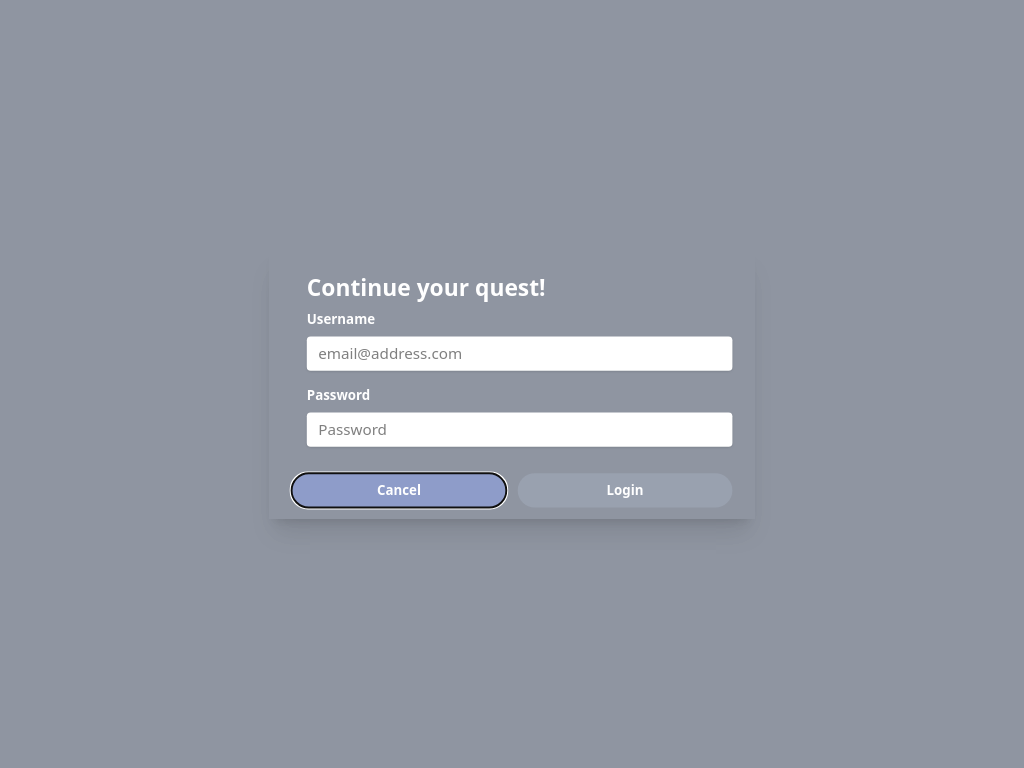
Test: LoginModal › shows validation error for invalid email format
Type "notanemail" into the field with placeholder "email@address.com" at x=520, y=354, box top-left (307, 336), bottom-right (732, 371)
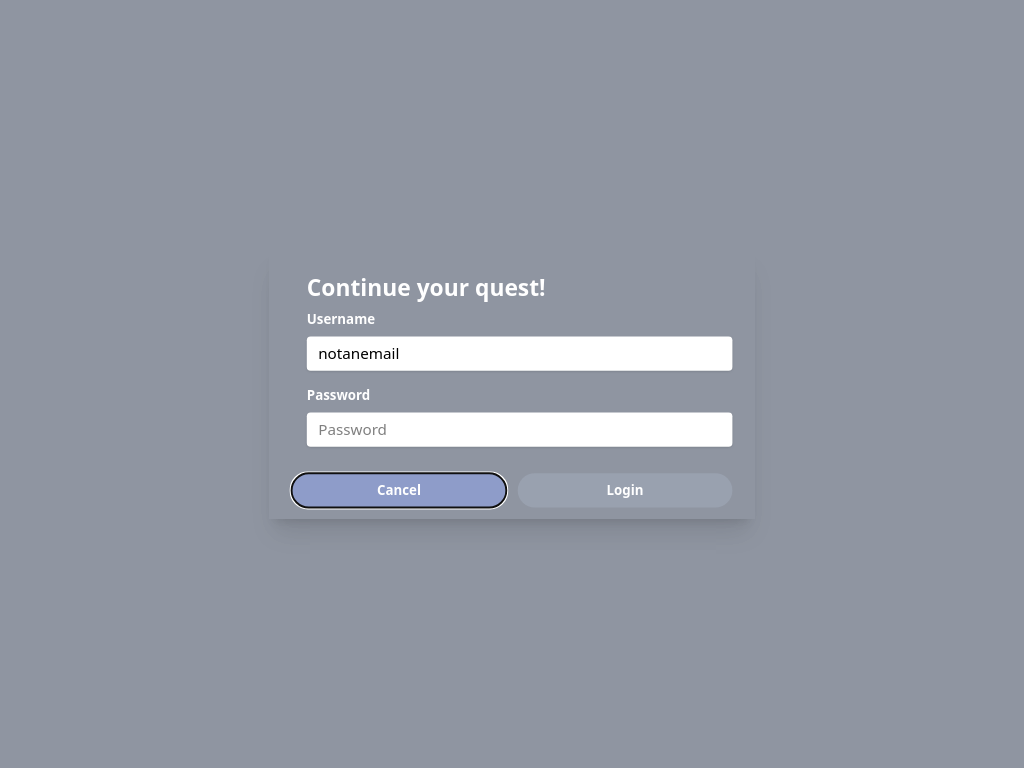
Leave the field with placeholder "email@address.com", box top-left (307, 336), bottom-right (732, 371)
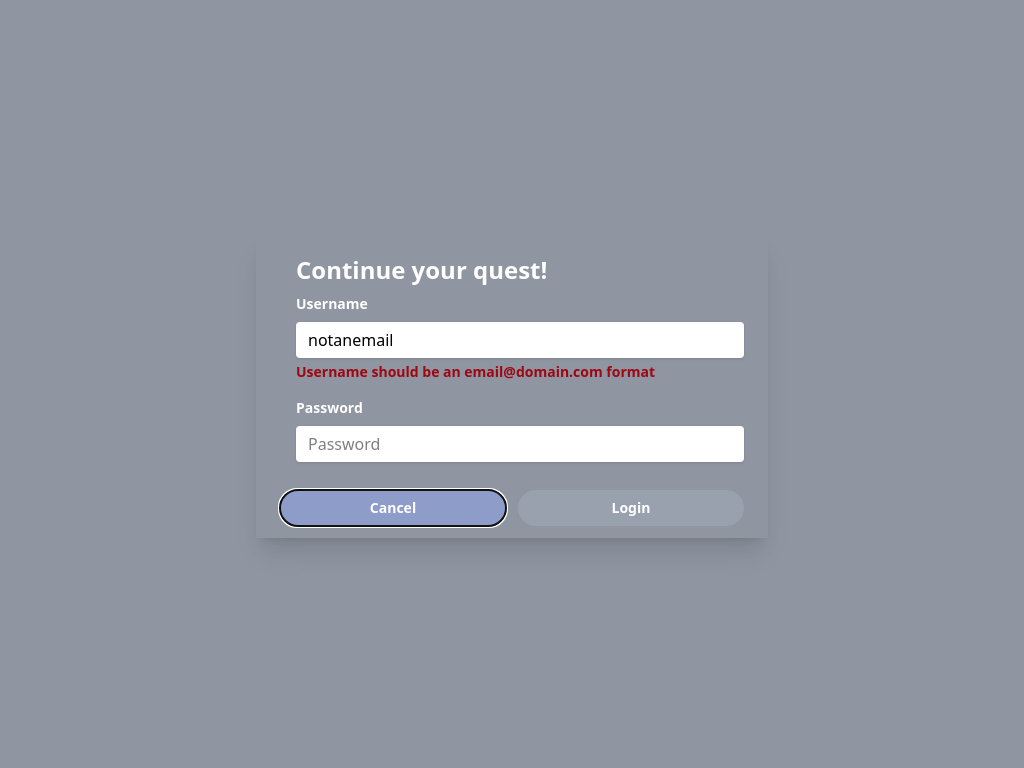
Check: the text "Username should be an email@domain.com format" is shown, box top-left (296, 362), bottom-right (655, 381)
